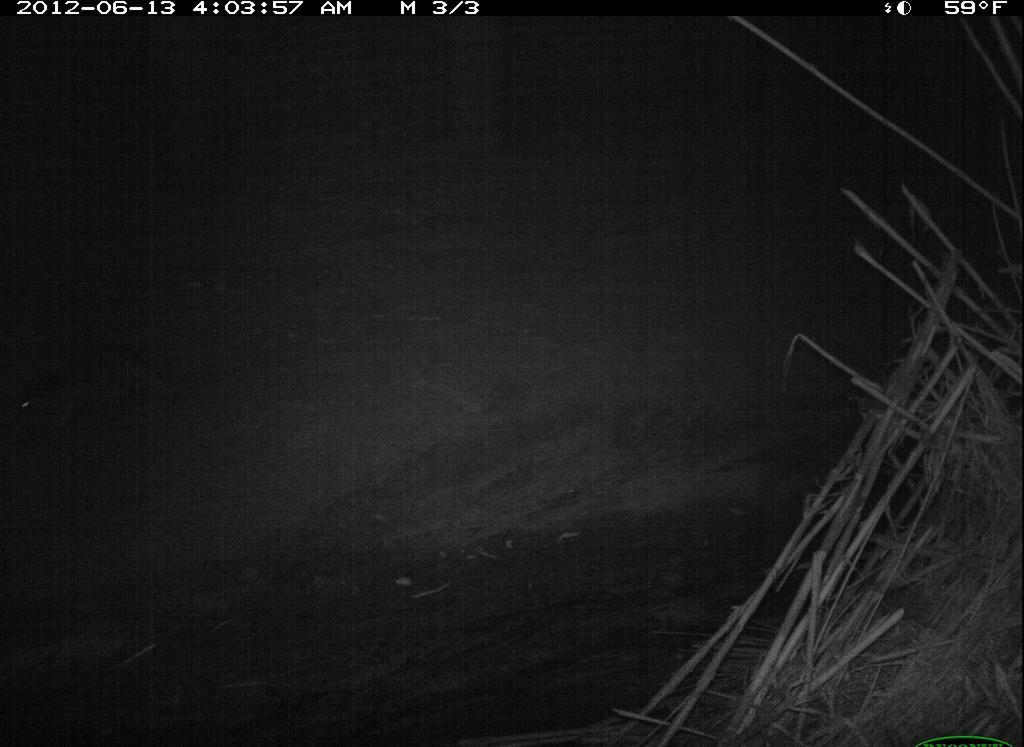raccoon: (11, 333, 195, 452)
